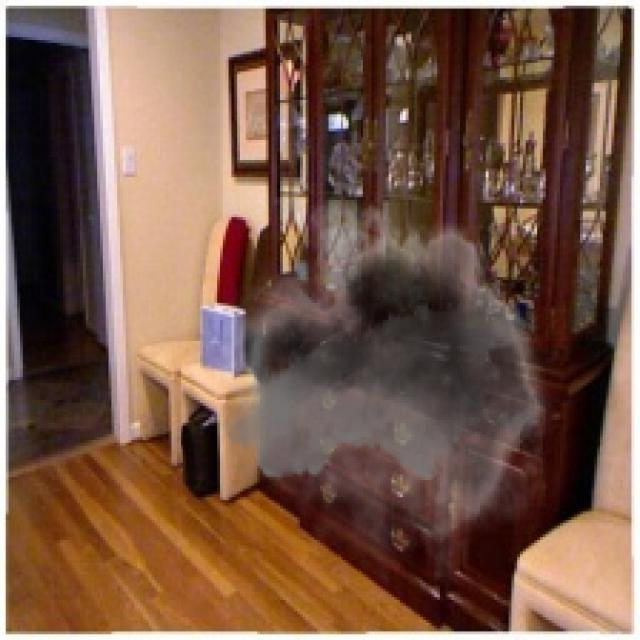smoke: (223, 183, 566, 586)
